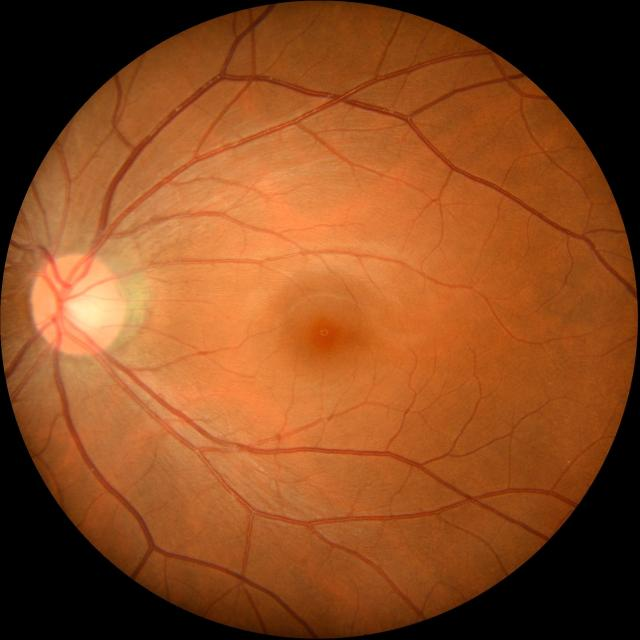OC: (61, 286, 104, 330)
OD: (30, 253, 124, 355)
